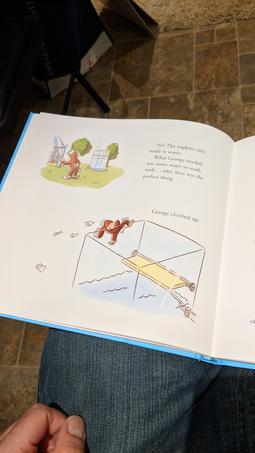text block: (139, 137, 210, 188), (150, 201, 203, 226)
